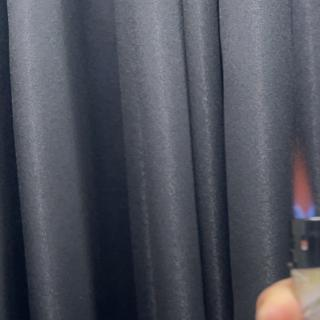fire: (288, 148, 316, 221)
